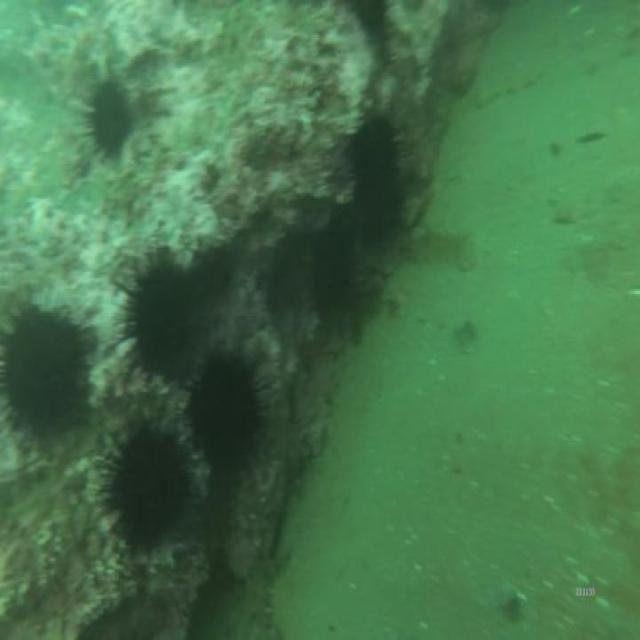echinus: (0, 297, 103, 457), (109, 246, 207, 394), (97, 408, 196, 548), (182, 343, 278, 476), (346, 104, 415, 248), (80, 70, 141, 172)
